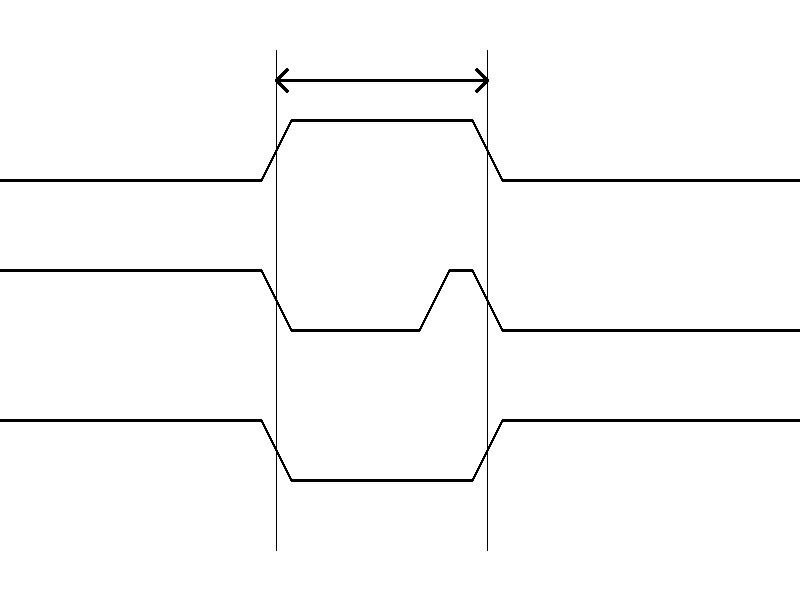double_arrow: (276, 65, 487, 95)
